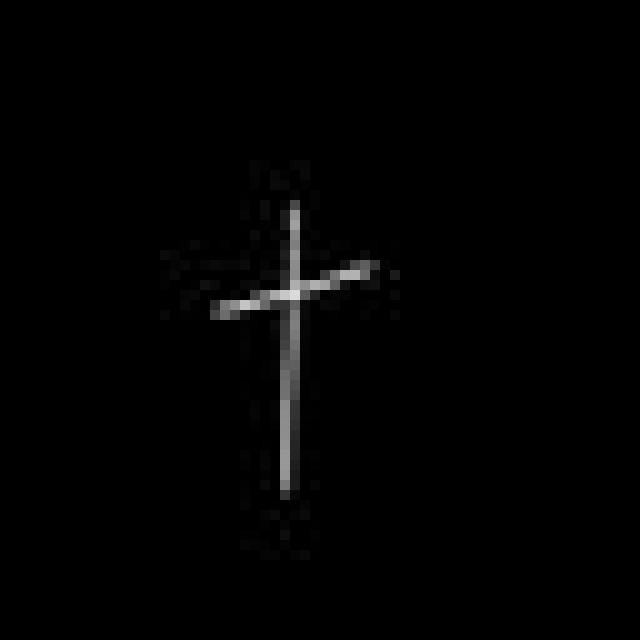10 -ten-: (204, 194, 386, 498)
